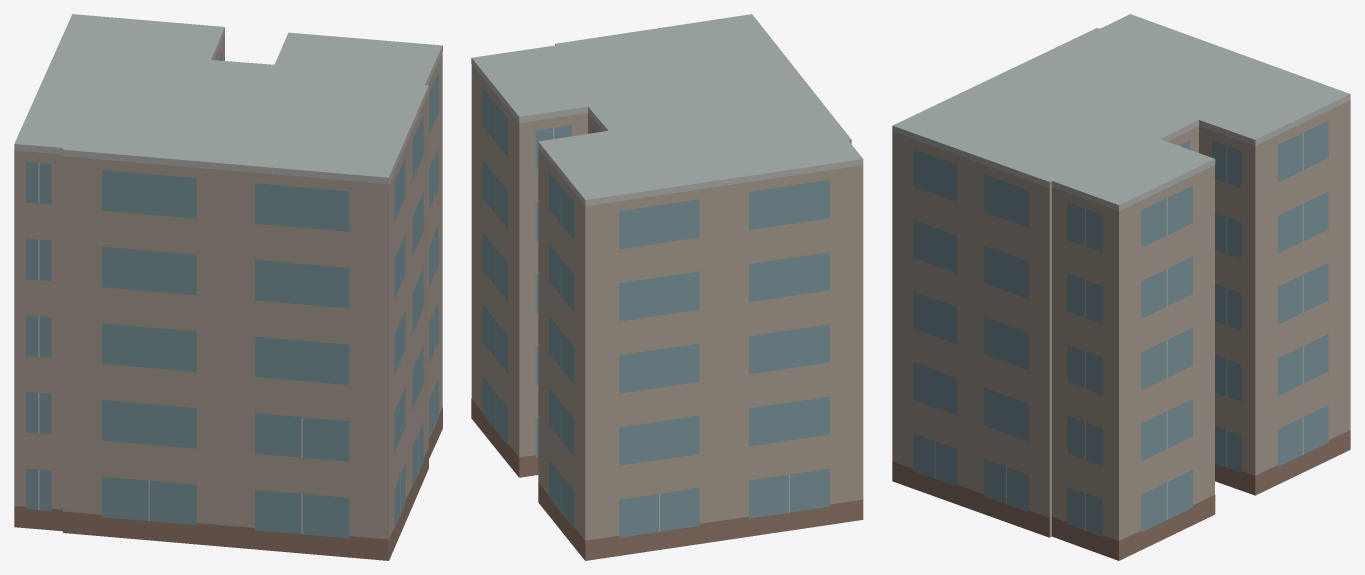
Rendered from survey-upis-33016524.glb.
3 views of the same model, side by side, from view 1: azimuth 30°, elevation 25°; view 2: azimuth 150°, elevation 25°; view 3: azimuth 270°, elevation 25° (orthographic). The views are drawn at different scales.
Parts seen in each view (by area): view 1: survey-upis-33016524.tmp; view 2: survey-upis-33016524.tmp; view 3: survey-upis-33016524.tmp.
Boxes of the visible parts, <box> form: survey-upis-33016524.tmp: <box>14,14,442,560</box>; survey-upis-33016524.tmp: <box>471,14,863,560</box>; survey-upis-33016524.tmp: <box>892,14,1350,560</box>.
Size of the model in its own units: 16.38 by 14.2 by 16.59.
